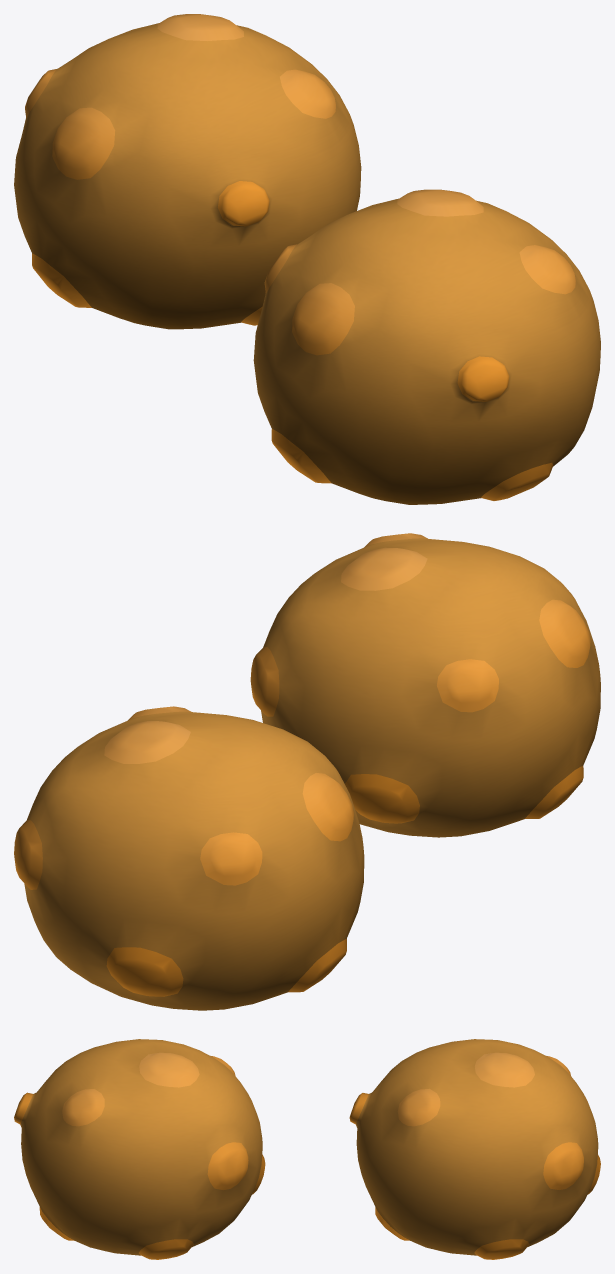
File: Low_Cheese_Bread.fbx
3 views of the same model, one above another, from view 1: azimuth 30°, elevation 25°; view 2: azimuth 150°, elevation 25°; view 3: azimuth 270°, elevation 25° (orthographic). The views are drawn at different scales.
Visible parts, largest first — view 1: Low_Cheese_Bread; view 2: Low_Cheese_Bread; view 3: Low_Cheese_Bread.
Boxes of the visible parts, x1,y1,x2,y2 form: Low_Cheese_Bread: (14, 14, 600, 504); Low_Cheese_Bread: (14, 533, 600, 1010); Low_Cheese_Bread: (14, 1039, 600, 1259).
Bounding box in the file's own units: 10.1 × 8.67 × 24.59.
